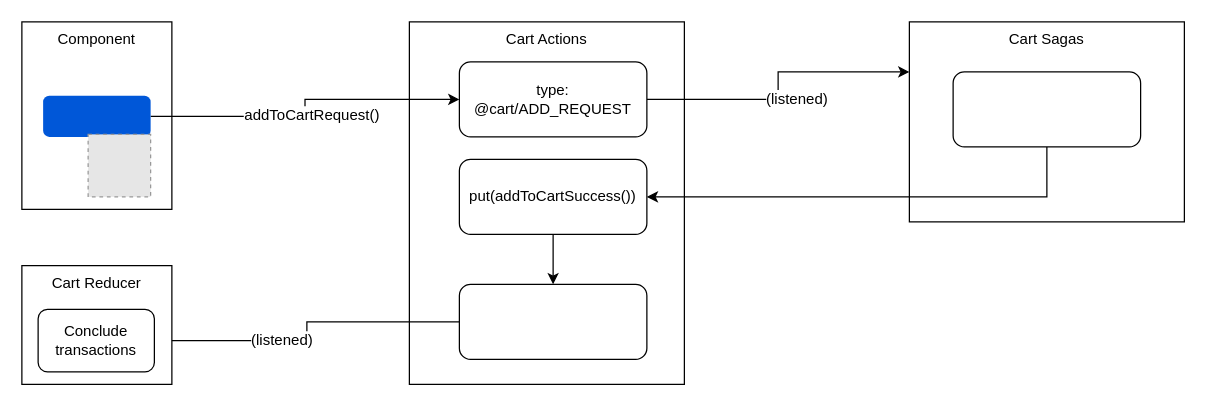
This 1206x406 diagram has some shape labels left out. Grey dashed boxes stand in for pictures. The centre of each missing label's shape, as x and y in pixels:
"Add to cart" goes at point 96,115.
"Run addToCart() (triggered by takeLatest())" goes at point 1046,109.
"type: @cart/ADD_SUCCESS" goes at point 552,321.
